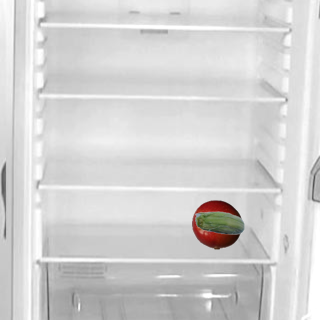Apple Braeburn: (191, 199, 241, 249)
Corn Husk: (194, 199, 244, 249)
